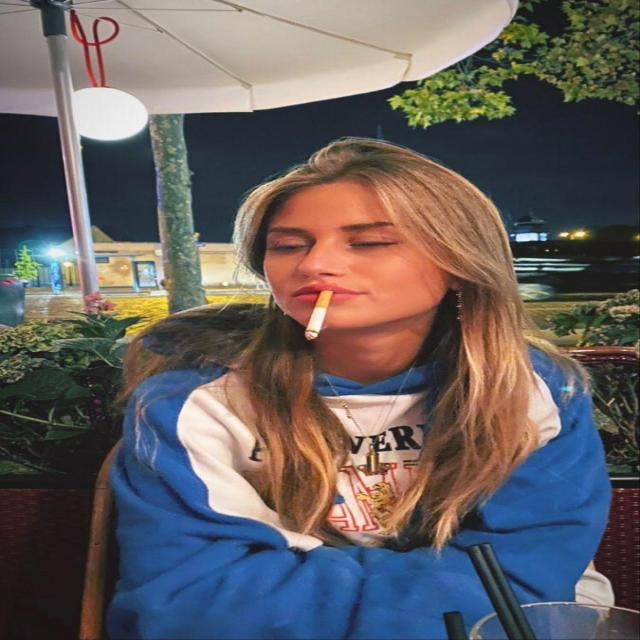cigarette: (269, 282, 365, 355)
